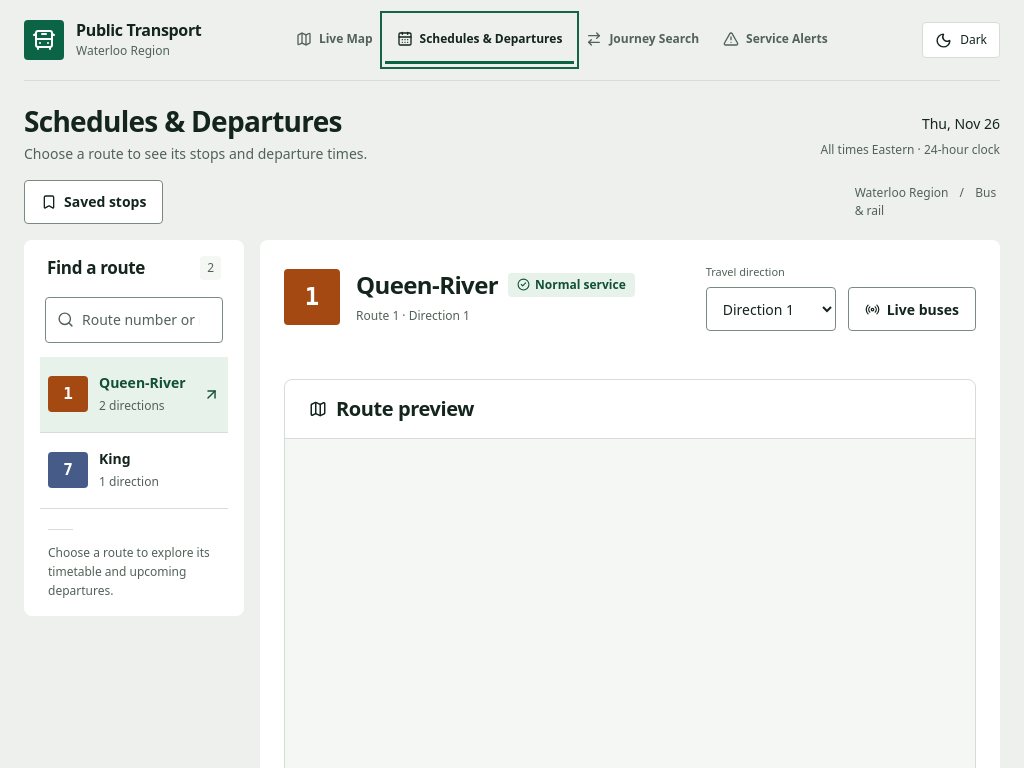
Scenario: validates missing or identical origin and destination before requesting journeys
Earlier steps of the test are not shown.
Press End
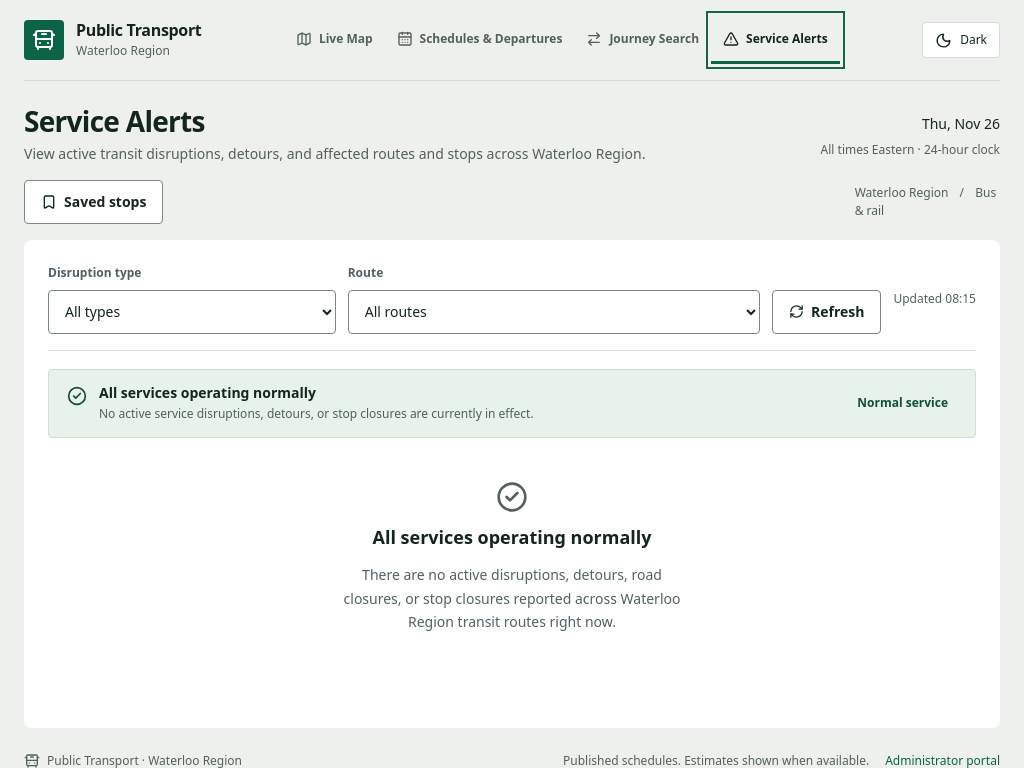
Press Home
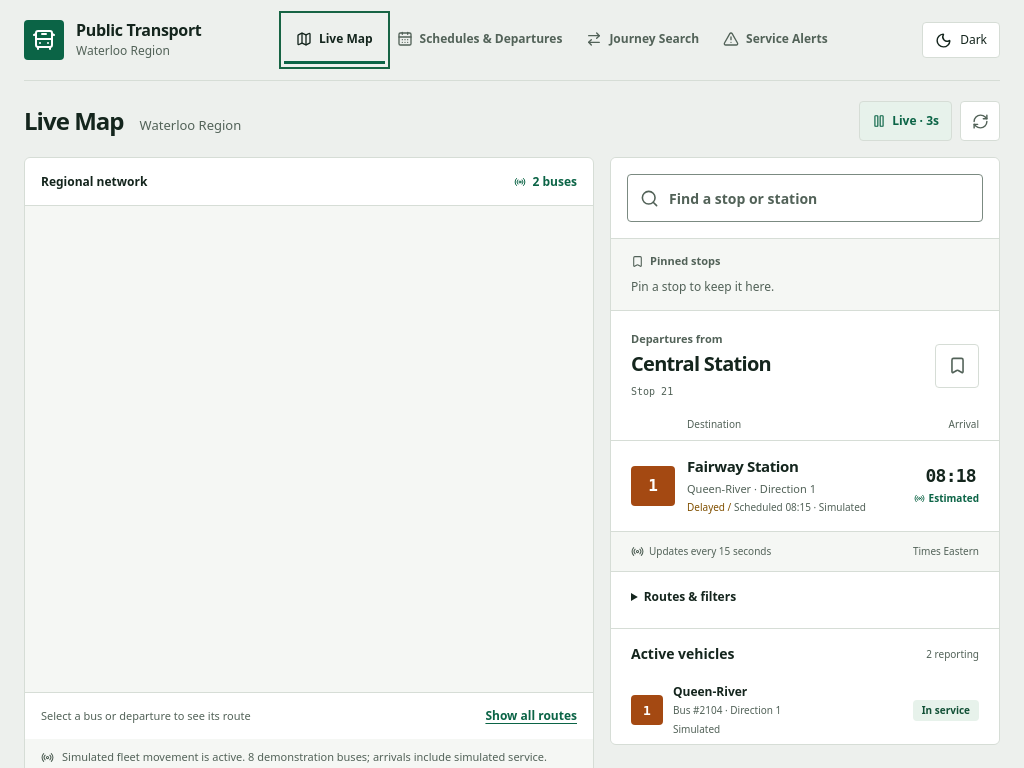
Press Arrowright Arrowright
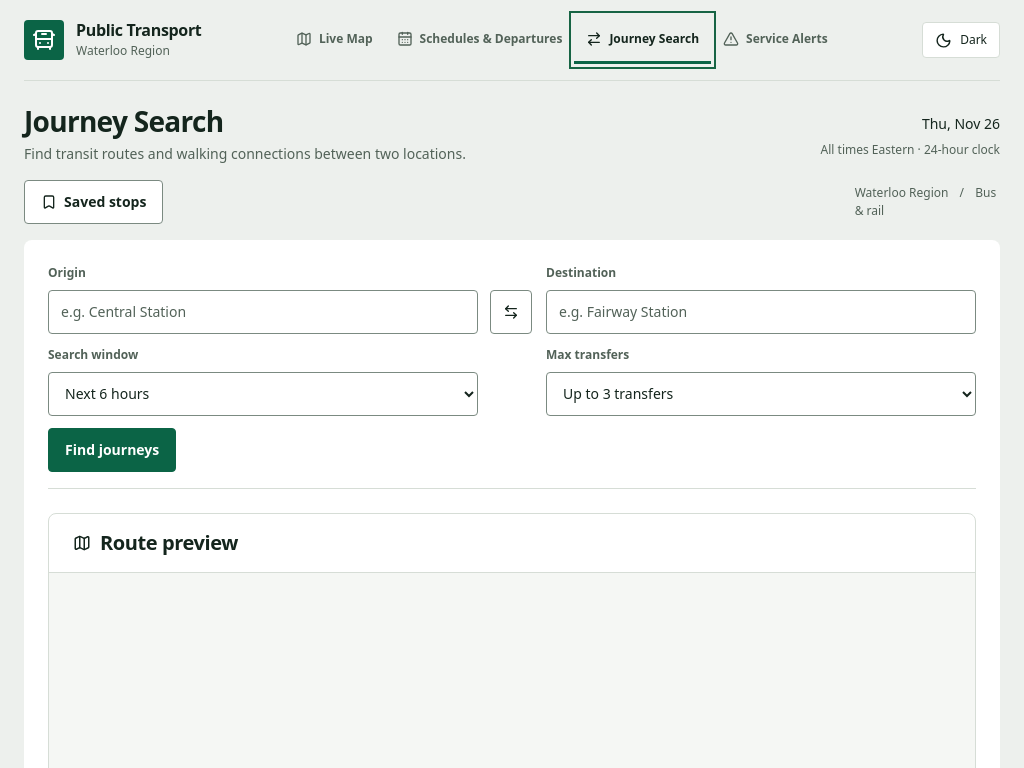
Click the button "Find journeys" at (112, 450), box [48, 428, 176, 472]
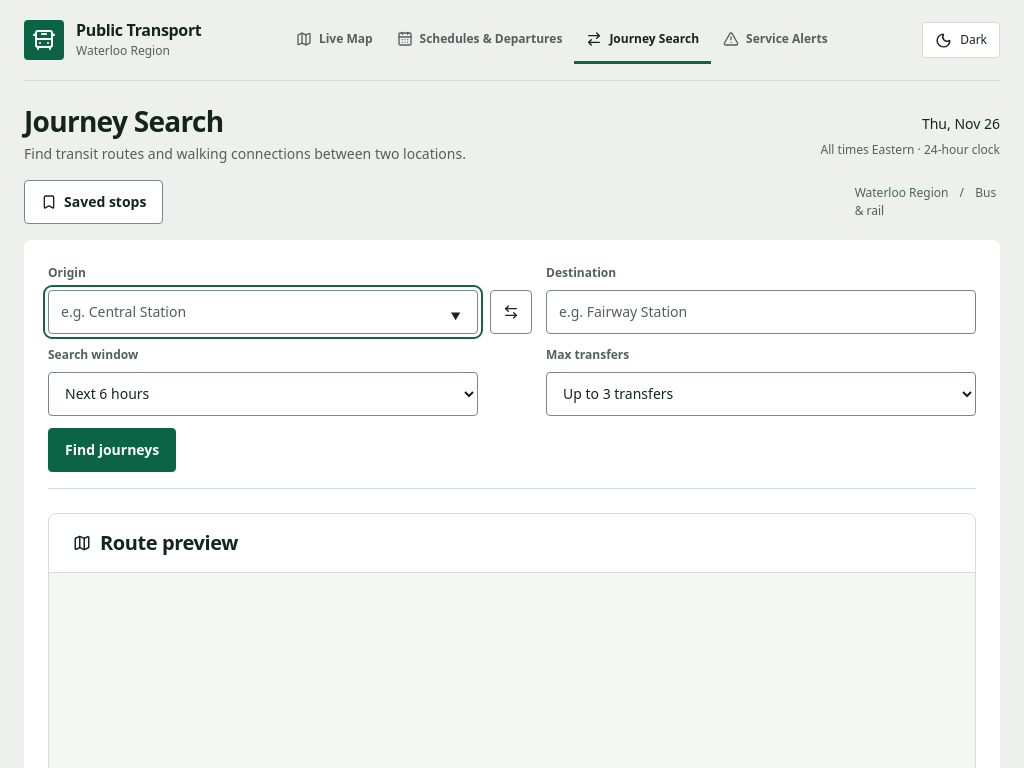
Type "Central Station" into the search field labelled "Origin" at (263, 312), box [48, 290, 478, 334]
Type "central station" into the search field labelled "Destination" at (761, 312), box [546, 290, 976, 334]
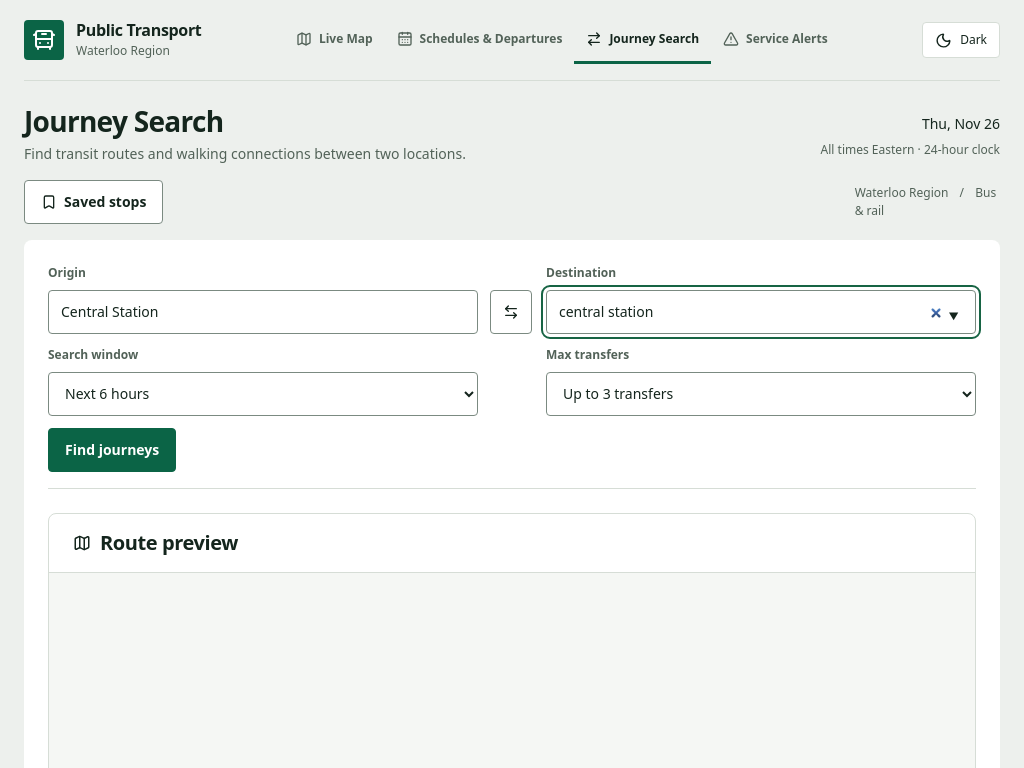
Click the button "Find journeys" at (112, 450), box [48, 428, 176, 472]
(page scrolled)
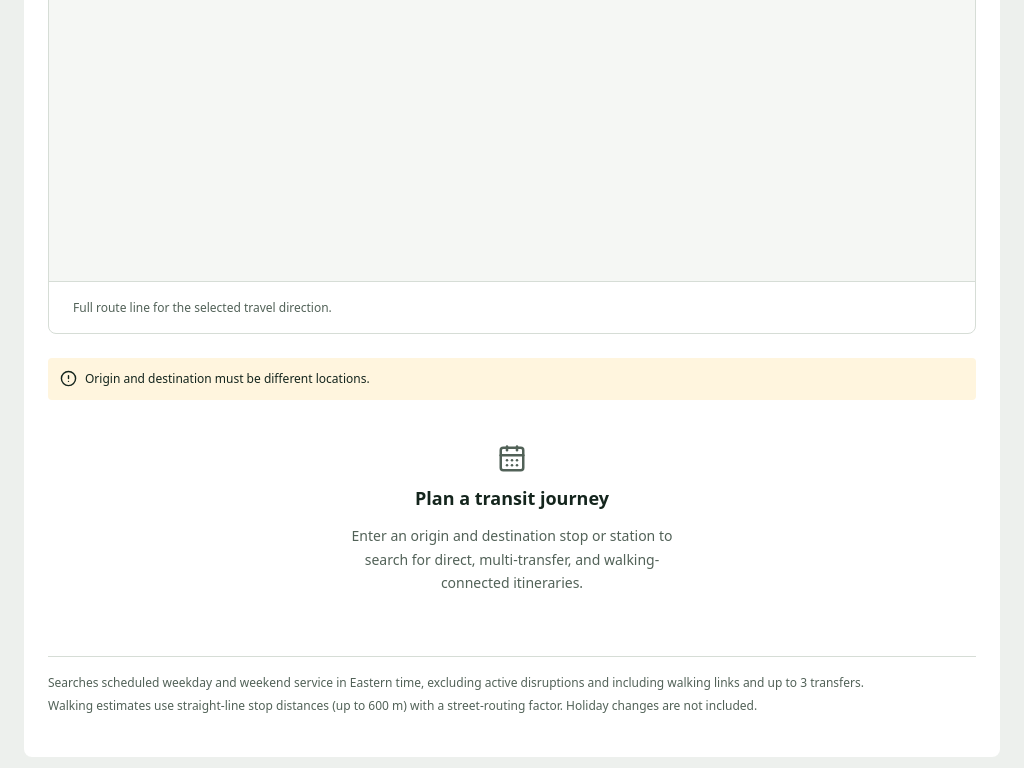
expect the message "Origin and destination must be different locations." is shown: met, box [48, 358, 976, 400]
